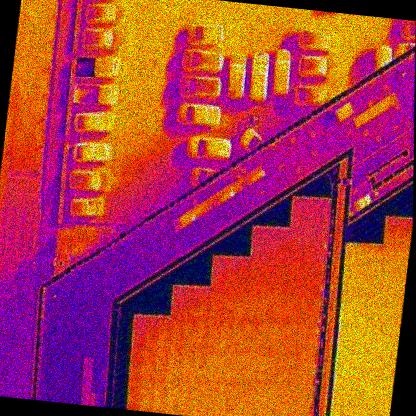Diode: (305, 292, 322, 324), (304, 324, 320, 354), (302, 353, 317, 385), (312, 231, 327, 262), (298, 386, 313, 416)
Hotspot: (215, 350, 234, 382), (183, 286, 201, 318), (212, 381, 230, 413), (129, 344, 145, 376), (226, 381, 242, 413), (156, 317, 173, 347), (202, 350, 219, 380), (335, 385, 351, 411)
Normal: (235, 256, 253, 292), (293, 292, 312, 326), (247, 259, 265, 293), (206, 288, 225, 320), (180, 318, 199, 350), (263, 227, 280, 261), (260, 258, 277, 292), (287, 226, 303, 262), (281, 292, 299, 324), (254, 321, 272, 353), (230, 320, 248, 352), (199, 380, 217, 412), (291, 324, 310, 354), (223, 257, 240, 290), (138, 376, 155, 409), (300, 229, 316, 264), (276, 228, 292, 263), (194, 317, 210, 352), (290, 352, 306, 387), (303, 198, 320, 230), (273, 260, 290, 292), (257, 291, 274, 323), (280, 322, 296, 356), (268, 322, 284, 356), (243, 320, 260, 352), (218, 319, 235, 351), (206, 318, 222, 352), (169, 315, 185, 349), (228, 352, 245, 384), (249, 382, 265, 416), (126, 376, 143, 408), (290, 198, 308, 228), (170, 286, 188, 316), (276, 354, 294, 384), (176, 378, 192, 411), (240, 352, 257, 383), (163, 379, 180, 410), (211, 256, 227, 288), (375, 301, 391, 333), (252, 352, 268, 384), (153, 347, 169, 379), (262, 383, 278, 415), (188, 380, 204, 412), (151, 378, 167, 410), (353, 298, 368, 332), (220, 290, 237, 320), (143, 316, 160, 346), (131, 316, 148, 346), (264, 354, 281, 384), (190, 350, 207, 380), (178, 349, 195, 379), (141, 344, 156, 378), (250, 228, 266, 259), (309, 261, 325, 292), (196, 287, 212, 318), (315, 199, 330, 231), (297, 262, 313, 292), (285, 260, 300, 292), (364, 300, 380, 330), (270, 292, 285, 324), (244, 290, 260, 320), (233, 290, 249, 320), (286, 384, 302, 414), (274, 384, 290, 414), (385, 302, 400, 333), (343, 299, 358, 330), (238, 382, 253, 413), (393, 218, 409, 247), (383, 217, 398, 247), (391, 246, 406, 276), (380, 246, 395, 276), (388, 274, 403, 304), (345, 270, 360, 300), (166, 348, 181, 378), (369, 246, 384, 274), (347, 244, 362, 272), (358, 245, 373, 273), (356, 272, 370, 300), (368, 272, 381, 302), (378, 274, 391, 302), (348, 385, 361, 411), (335, 408, 348, 416), (356, 410, 369, 416)
